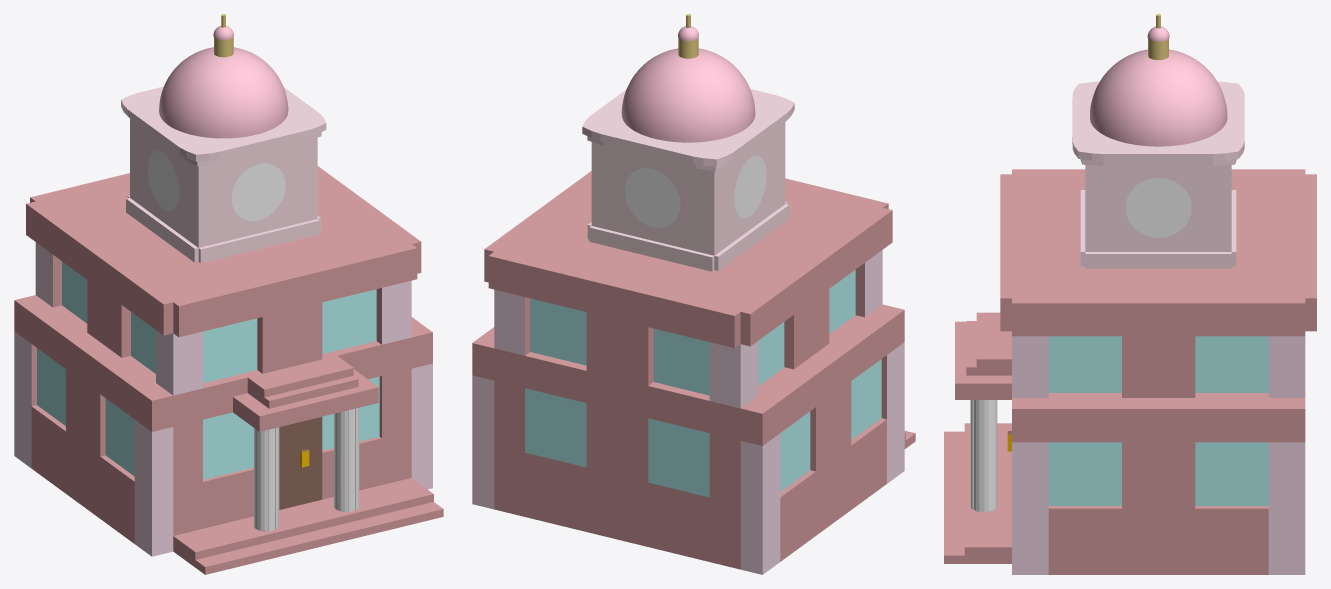
File: cityHall.fbx
3 renders of one model, left to right at view 1: azimuth 30°, elevation 25°; view 2: azimuth 150°, elevation 25°; view 3: azimuth 270°, elevation 25°, orthographic. The views are drawn at different scales.
Parts seen in each view (by area): view 1: BaseBuilding, ClockTower, ClockDome, pillar1, pillar2, clockFace, clockFace3; view 2: BaseBuilding, ClockTower, ClockDome, clockFace4, clockFace3; view 3: BaseBuilding, ClockTower, ClockDome, clockFace2, pillar2.
Boxes of the visible parts, x1,y1,x2,y2 form: BaseBuilding: [14, 166, 443, 574]; ClockTower: [121, 86, 326, 263]; ClockDome: [159, 47, 288, 138]; pillar1: [254, 427, 279, 531]; pillar2: [334, 407, 359, 511]; clockFace: [231, 163, 285, 221]; clockFace3: [148, 151, 179, 211]; BaseBuilding: [472, 171, 915, 574]; ClockTower: [582, 89, 794, 271]; ClockDome: [621, 48, 755, 142]; clockFace4: [624, 168, 680, 227]; clockFace3: [734, 155, 766, 218]; BaseBuilding: [944, 169, 1316, 574]; ClockTower: [1072, 81, 1244, 268]; ClockDome: [1090, 49, 1227, 146]; clockFace2: [1125, 177, 1191, 237]; pillar2: [970, 400, 997, 512].
Size of the model in its own units: 21.22 by 32.99 by 22.9.
